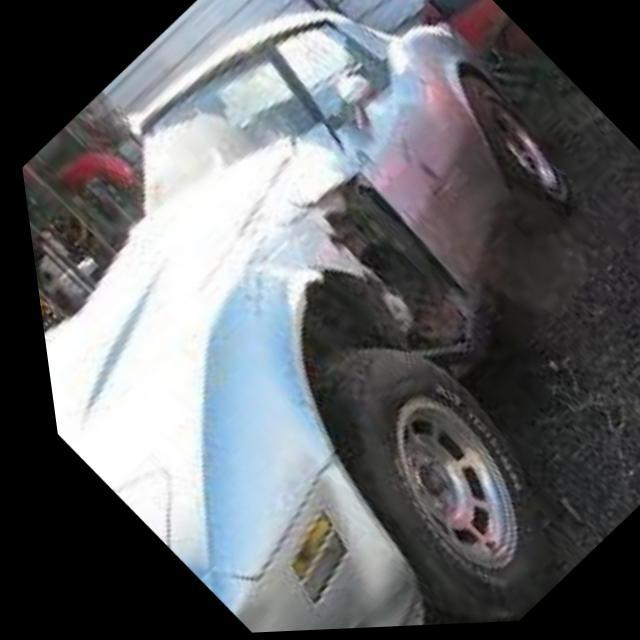no part: (195, 133, 485, 349)
